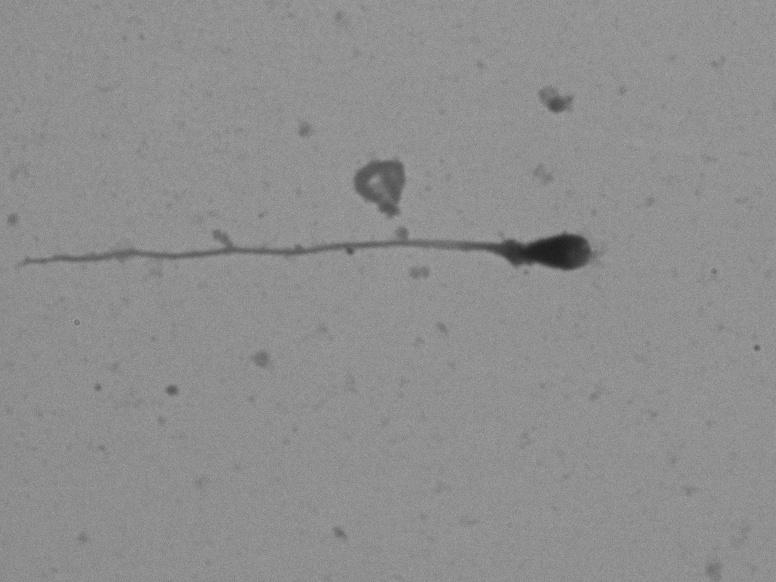Abnormal: (11, 215, 618, 318)
